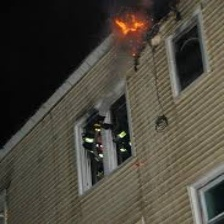smoke: (110, 1, 167, 17)
